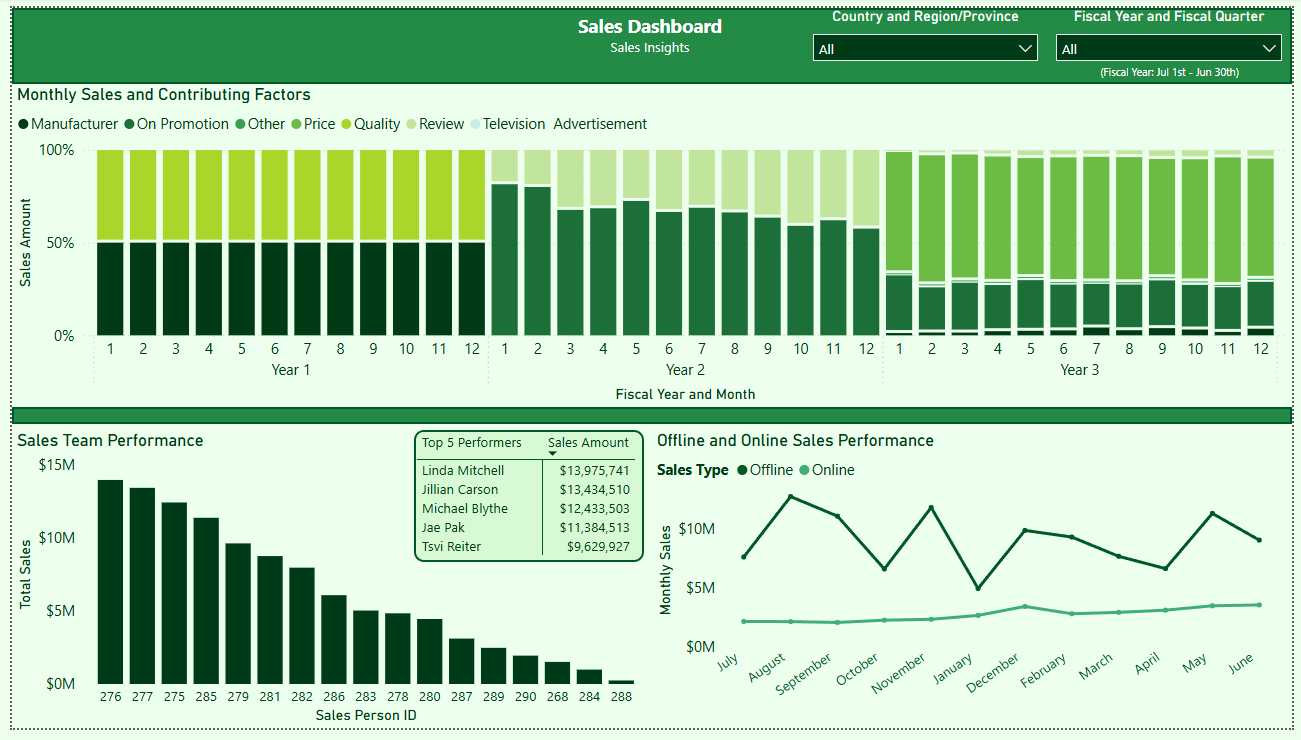

The dashboard page shown, as its layout file describes it:
{"tool":"powerbi","page":{"name":"KPIs II","canvas":[1280,720],"ordinal":1},"visuals":[{"type":"shape","box":[0,0,1280,76],"z":0},{"type":"textbox","box":[516.7,0,242.5,64.2],"z":1000},{"type":"shape","box":[0,399,1280.4,16.8],"z":2000},{"type":"columnChart","title":"Sales Team Performance","fields":{"Category":["SalesPersonPerformance.SalesPersonID New"],"Y":["SalesPersonPerformance.TotalSalesInFiscalPeriod"]},"box":[0,422.1,640.2,297.9],"z":3000},{"type":"slicer","title":"Fiscal Year and Fiscal Quarter","fields":{"Values":["SalesOrderHeader.FiscalYear","SalesOrderHeader.FiscalQuarter"]},"box":[1034.1,0,245.9,64.3],"z":5000},{"type":"slicer","title":"Country and Region/Province","fields":{"Values":["Geographical.CountryName","Geographical.country_state_name"]},"box":[790.6,0,245.9,64.3],"z":6000},{"type":"hundredPercentStackedColumnChart","title":"Monthly Sales and Contributing Factors","fields":{"Category":["SalesOrderHeader.FiscalYear","SalesOrderHeader.FiscalMonth"],"Series":["Query2.sales_reason"],"Y":["Sum(Query2.sales_amount)"]},"box":[0,75.9,1280,322.9],"z":7000},{"type":"lineChart","title":"Offline and Online Sales Performance","fields":{"Y":["Sum(salesorderheader.TotalDue)"],"Series":["salesorderheader.Sales Type"],"Category":["salesorderheader.FiscalMonthName"]},"box":[640.2,422.1,630.4,289.1],"z":8000},{"type":"pivotTable","fields":{"Values":["SalesPersonPerformance.TotalSalesInFiscalPeriod"],"Rows":["SalePersonNames.FullName"]},"box":[401.7,422.1,230.5,132.1],"z":9000},{"type":"textbox","box":[1070.9,48.6,173.1,30.2],"z":10000}]}

Visuals, with their boxes in screenshot pixels (x1, y1, x2, y2), scaled from the page's 1280x720 canvas onto the 1301x740 screenshot:
shape: select_region(0, 0, 1300, 78)
textbox: select_region(525, 0, 772, 66)
shape: select_region(0, 410, 1300, 427)
"Sales Team Performance" columnChart: select_region(0, 434, 651, 739)
"Fiscal Year and Fiscal Quarter" slicer: select_region(1051, 0, 1300, 66)
"Country and Region/Province" slicer: select_region(804, 0, 1054, 66)
"Monthly Sales and Contributing Factors" hundredPercentStackedColumnChart: select_region(0, 78, 1300, 410)
"Offline and Online Sales Performance" lineChart: select_region(651, 434, 1291, 731)
pivotTable - SalesPersonPerformance.TotalSalesInFiscalPeriod x SalePersonNames.FullName: select_region(408, 434, 643, 570)
textbox: select_region(1088, 50, 1264, 81)
